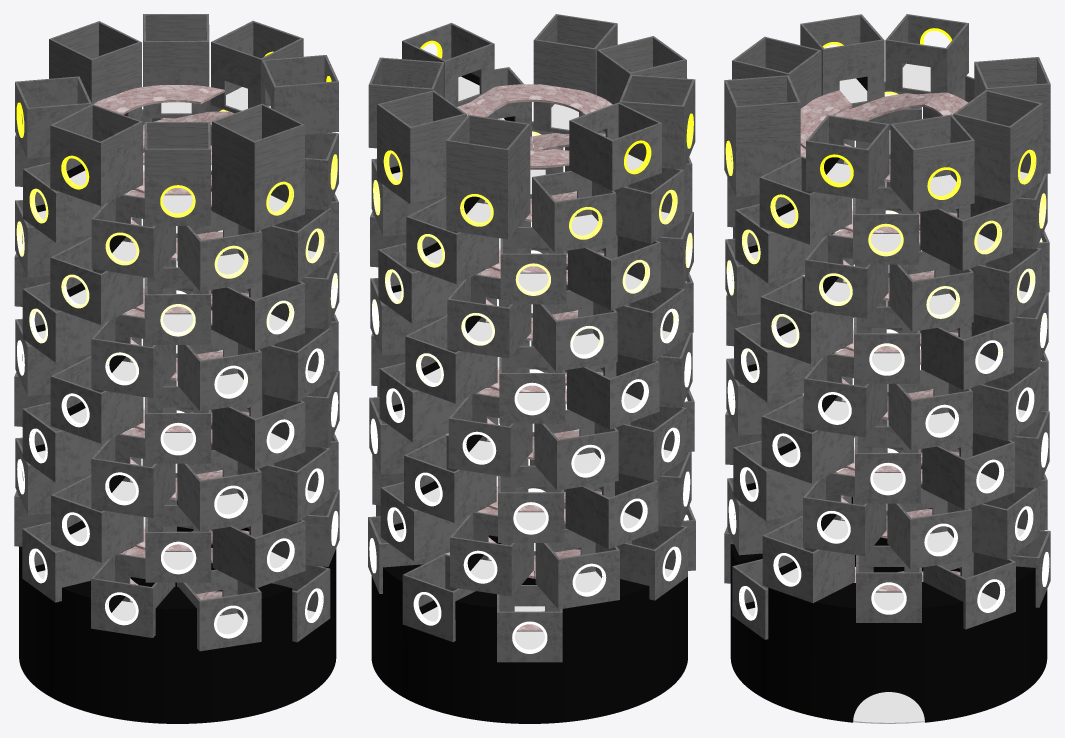
File: 39-METABOILERISM.glb
3 views of the same model, side by side, from view 1: azimuth 30°, elevation 25°; view 2: azimuth 150°, elevation 25°; view 3: azimuth 270°, elevation 25° (orthographic).
Visible parts, largest first — view 1: wall, baz 0, baz1, dograma, zemin, rotad, oturac; view 2: wall, baz 0, baz1, dograma, zemin, rotad, oturac; view 3: wall, baz 0, baz1, dograma, zemin, rotad, floor1, oturac.
Boxes of the visible parts, bbox=[...] form: wall: bbox=[14, 14, 339, 651]; baz 0: bbox=[19, 563, 336, 723]; baz1: bbox=[19, 501, 336, 668]; dograma: bbox=[16, 51, 338, 638]; zemin: bbox=[37, 87, 315, 634]; rotad: bbox=[93, 85, 249, 614]; oturac: bbox=[22, 114, 126, 612]; wall: bbox=[368, 14, 695, 662]; baz 0: bbox=[371, 571, 687, 723]; baz1: bbox=[371, 507, 687, 668]; dograma: bbox=[369, 40, 693, 653]; zemin: bbox=[392, 76, 672, 649]; rotad: bbox=[445, 84, 612, 630]; oturac: bbox=[390, 73, 514, 614]; wall: bbox=[724, 14, 1050, 639]; baz 0: bbox=[730, 560, 1047, 722]; baz1: bbox=[730, 497, 1047, 669]; dograma: bbox=[725, 28, 1049, 620]; zemin: bbox=[747, 63, 1027, 616]; rotad: bbox=[800, 90, 968, 591]; floor1: bbox=[853, 692, 924, 723]; oturac: bbox=[731, 76, 867, 609].
Bounding box in the file's own units: 26.51 × 52.1 × 26.83.
Materials: 5 (3 with a texture image).
